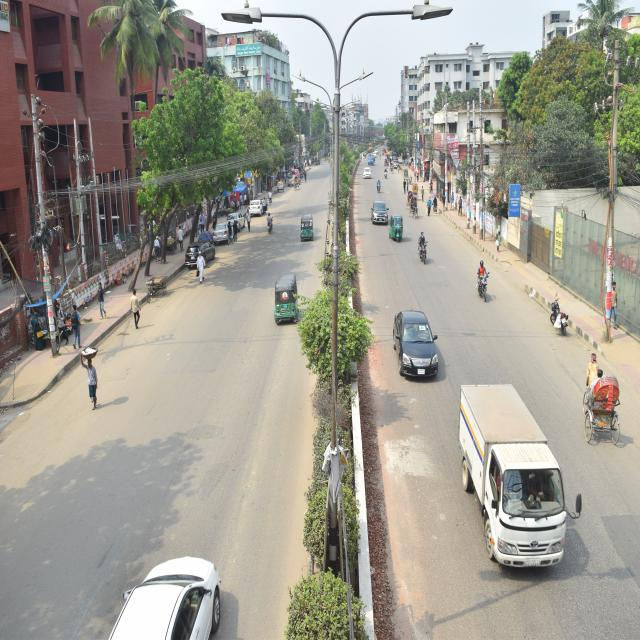car: (128, 550, 258, 640), (384, 308, 440, 392), (186, 240, 215, 269), (367, 193, 392, 224), (244, 190, 268, 215), (211, 222, 232, 245), (360, 166, 377, 190), (227, 212, 245, 232), (270, 176, 283, 188)
motorbike: (464, 258, 495, 306), (545, 300, 573, 346), (419, 235, 437, 278), (377, 175, 387, 203), (266, 217, 276, 236)
pickup-van: (447, 378, 568, 570)
